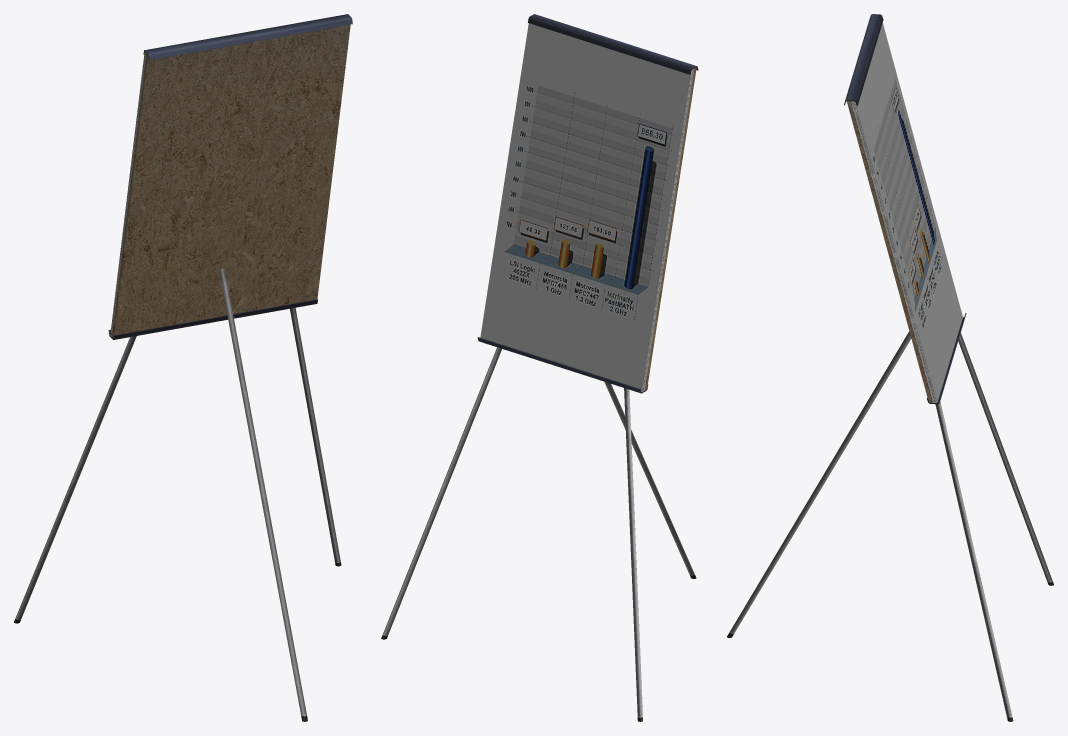
Rendered from presentation_stand-2.FBX.
The picture shows the model from 3 angles, left to right: view 1: azimuth 30°, elevation 25°; view 2: azimuth 150°, elevation 25°; view 3: azimuth 270°, elevation 25°; orthographic projection. The views are drawn at different scales.
Parts seen in each view (by area): view 1: presentation_stand-2_LOD0; view 2: presentation_stand-2_LOD0; view 3: presentation_stand-2_LOD0.
Part boxes in pixels (bbox=[...]): presentation_stand-2_LOD0: bbox=[14, 14, 352, 721]; presentation_stand-2_LOD0: bbox=[381, 14, 698, 721]; presentation_stand-2_LOD0: bbox=[727, 14, 1053, 721].
Size of the model in its own units: 41.61 by 82.1 by 41.45.
